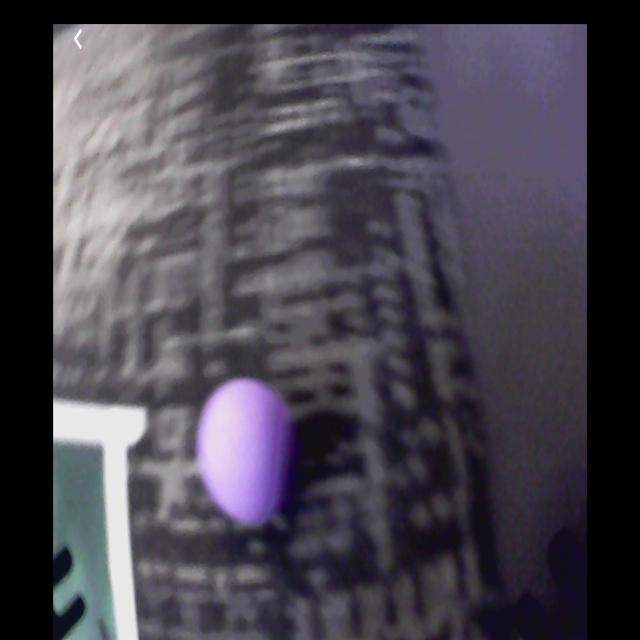ball: (195, 374, 299, 537)
